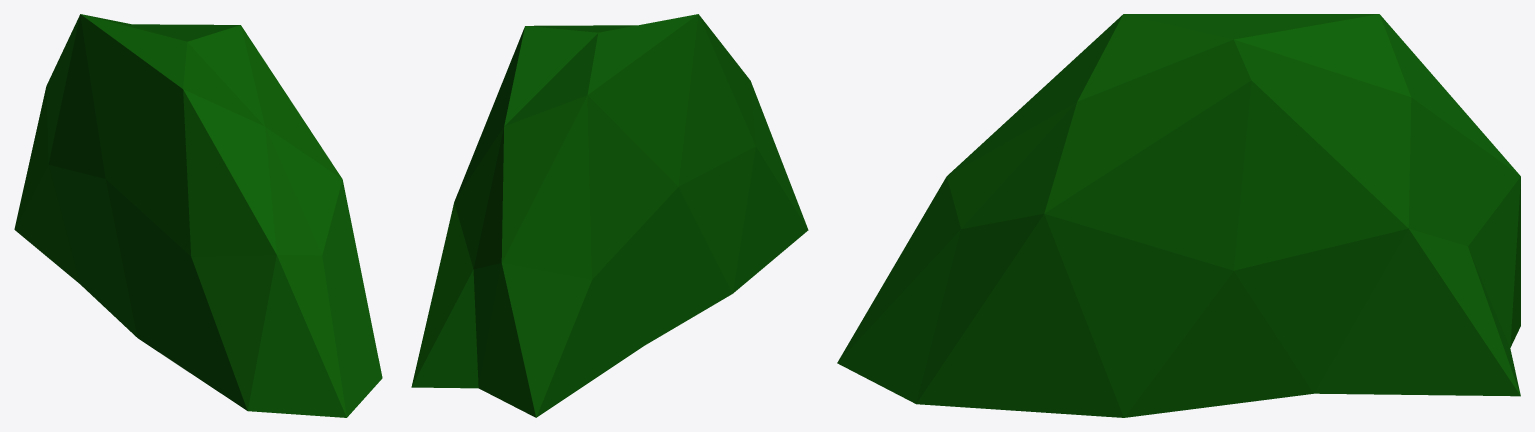
Rendered from Bush.fbx.
3 renders of one model, left to right at view 1: azimuth 30°, elevation 25°; view 2: azimuth 150°, elevation 25°; view 3: azimuth 270°, elevation 25°, orthographic. The views are drawn at different scales.
Visible parts, largest first — view 1: Iкосфера; view 2: Iкосфера; view 3: Iкосфера.
Boxes of the visible parts, box(x1,y1,x2,y2) form: Iкосфера: box(14, 14, 382, 417); Iкосфера: box(411, 14, 808, 417); Iкосфера: box(837, 14, 1520, 417).
Size of the model in its own units: 91.55 by 126 by 241.
